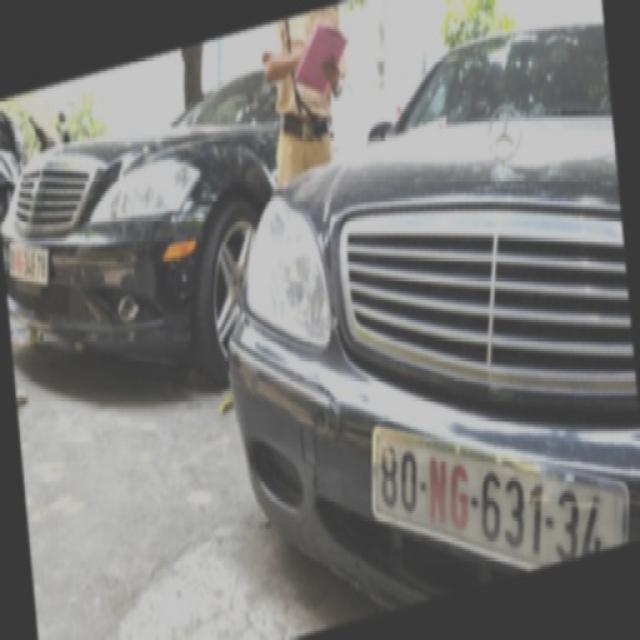bien_ngoai_giao: (371, 423, 632, 589), (9, 241, 50, 287)
